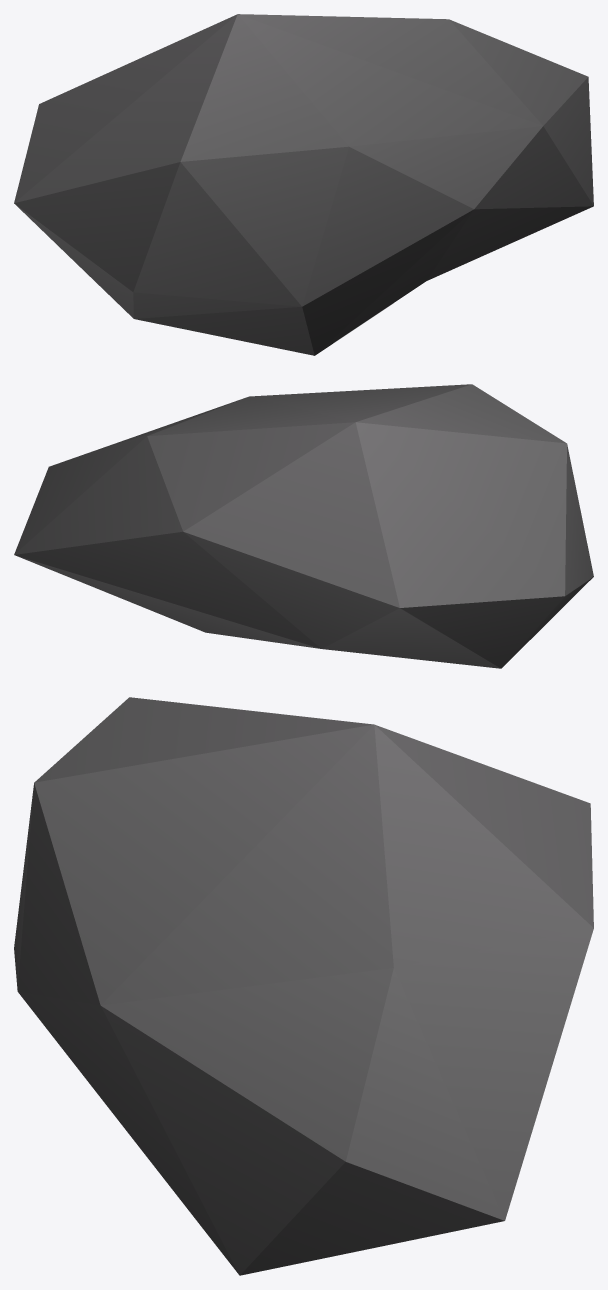
The model's file is Rock_2.fbx.
The picture shows the model from 3 angles, top to bottom: view 1: azimuth 30°, elevation 25°; view 2: azimuth 150°, elevation 25°; view 3: azimuth 270°, elevation 25°; orthographic projection. The views are drawn at different scales.
Parts seen in each view (by area): view 1: Rock_2; view 2: Rock_2; view 3: Rock_2.
Boxes of the visible parts, <box> form: Rock_2: <box>14,14,593,355</box>; Rock_2: <box>14,384,593,668</box>; Rock_2: <box>14,697,593,1275</box>.
Size of the model in its own units: 273 by 127 by 169.
